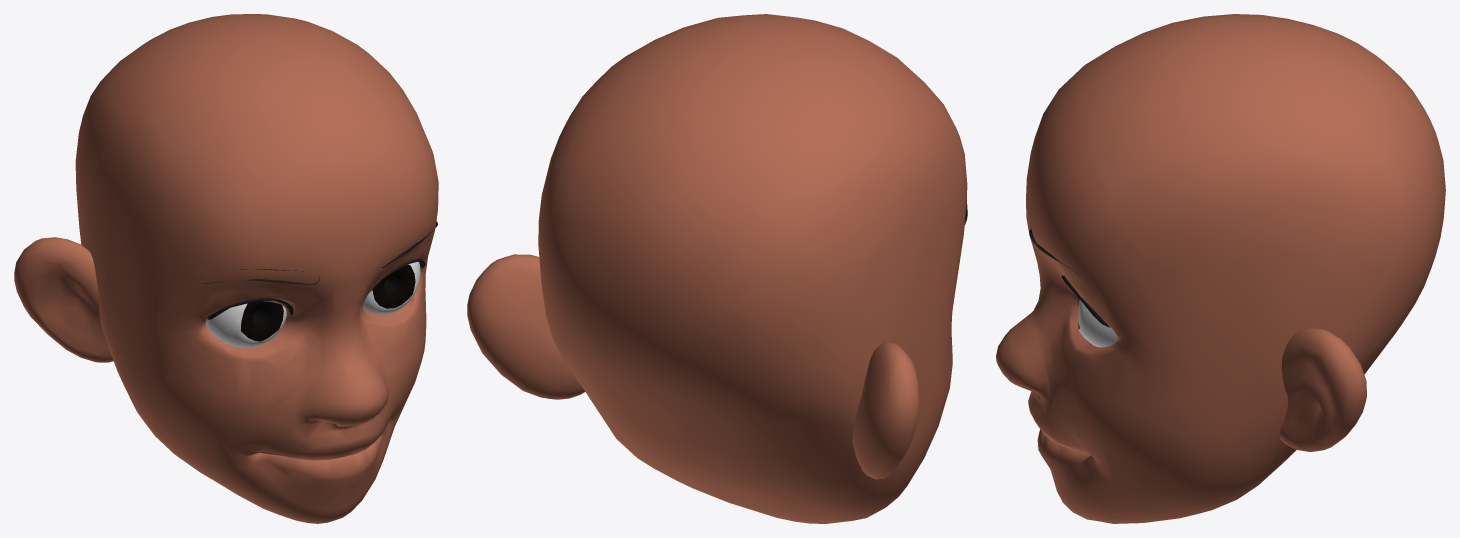
3 views of the same model, side by side, from view 1: azimuth 30°, elevation 25°; view 2: azimuth 150°, elevation 25°; view 3: azimuth 270°, elevation 25° (orthographic). The views are drawn at different scales.
Visible parts, largest first — view 1: skin.001, eyes.003, eyes.002; view 2: skin.001; view 3: skin.001, eyes.002.
Boxes of the visible parts, bbox=[...] form: skin.001: bbox=[14, 14, 438, 523]; eyes.003: bbox=[205, 301, 286, 347]; eyes.002: bbox=[363, 261, 420, 314]; skin.001: bbox=[467, 14, 967, 523]; skin.001: bbox=[996, 14, 1445, 523]; eyes.002: bbox=[1078, 298, 1117, 347].
Bounding box in the file's own units: 1.81 × 2 × 1.7.
